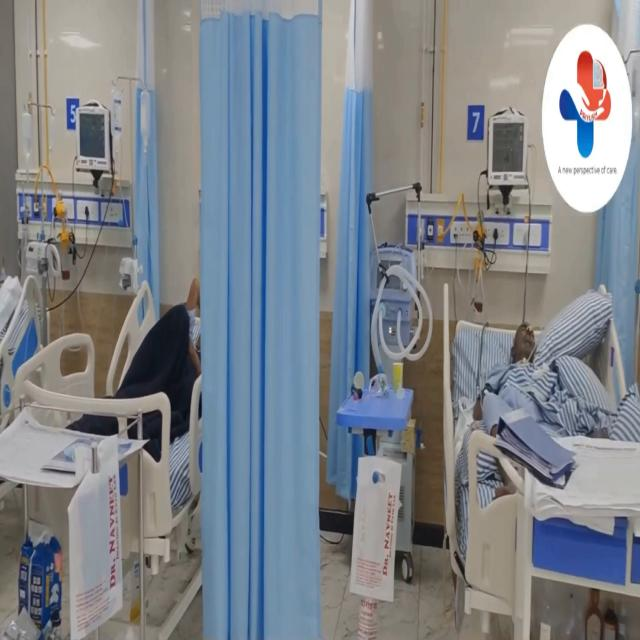Movement-NO: (496, 307, 560, 412)
Movement-Yes: (156, 262, 202, 391)
